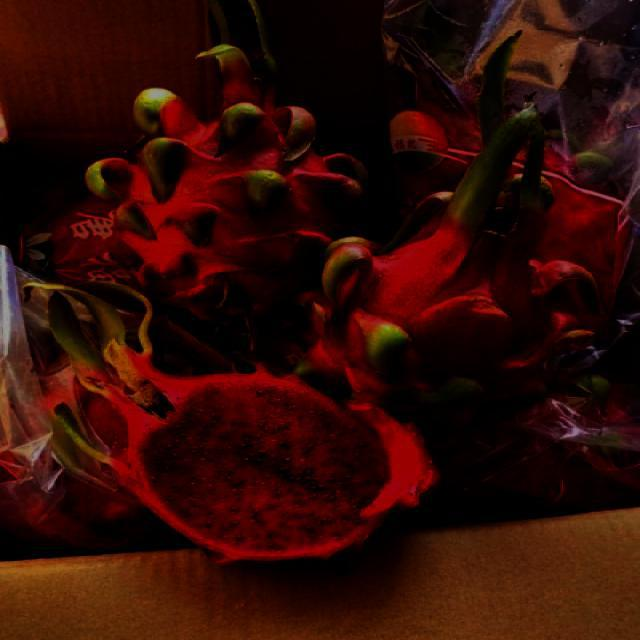do: (64, 312, 430, 570), (330, 47, 585, 417), (98, 38, 334, 318)
